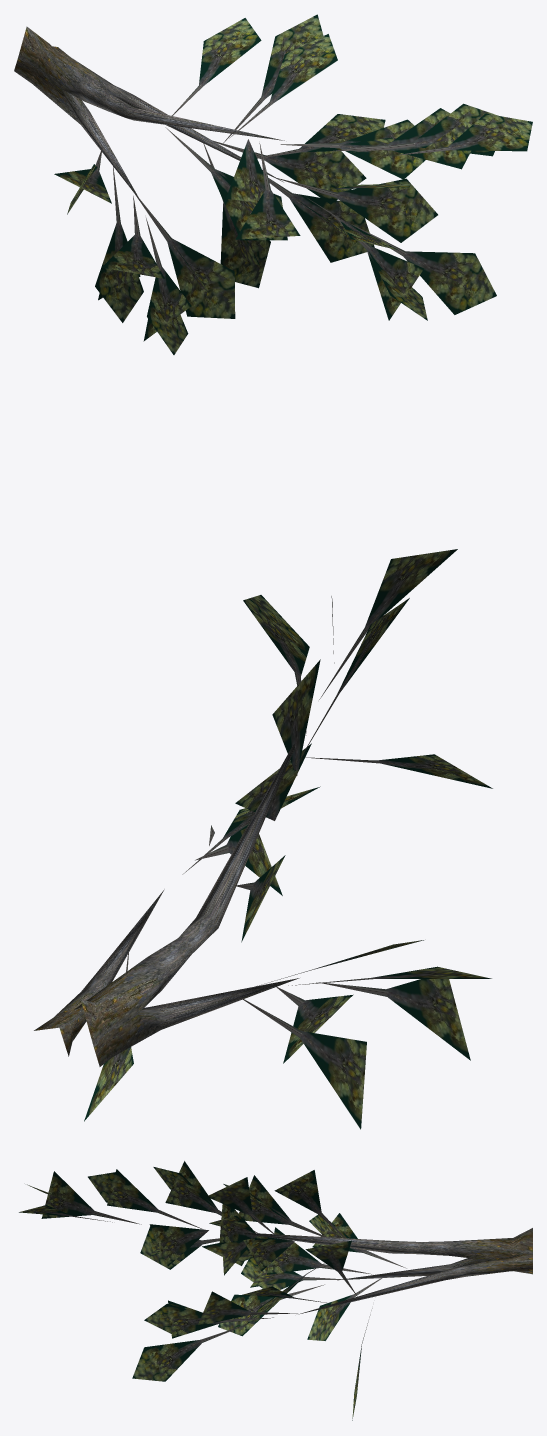
File: shadow_tree_river_birch_lg_a.glb
3 renders of one model, top to bottom at view 1: azimuth 30°, elevation 25°; view 2: azimuth 150°, elevation 25°; view 3: azimuth 270°, elevation 25°, orthographic. The views are drawn at different scales.
Bounding box in the file's own units: 240 × 245 × 469.
2 materials, 2 textured.
